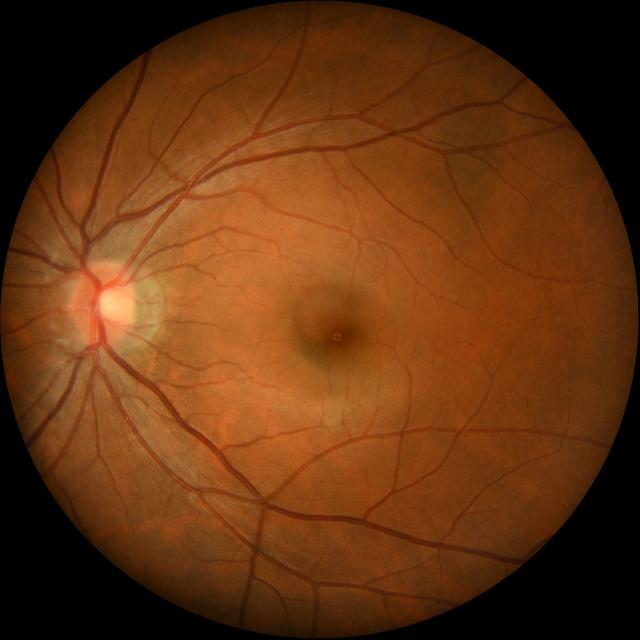OC: (96, 288, 124, 322)
OD: (72, 262, 134, 342)
